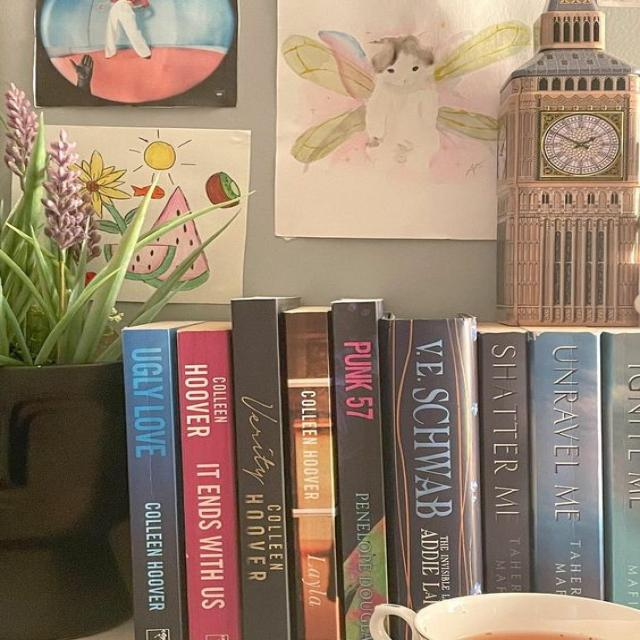book: (380, 318, 481, 608), (328, 300, 386, 639), (231, 298, 288, 639), (178, 323, 239, 639), (529, 330, 600, 598), (124, 327, 184, 639), (285, 308, 338, 639), (478, 321, 530, 591), (604, 330, 639, 606)
